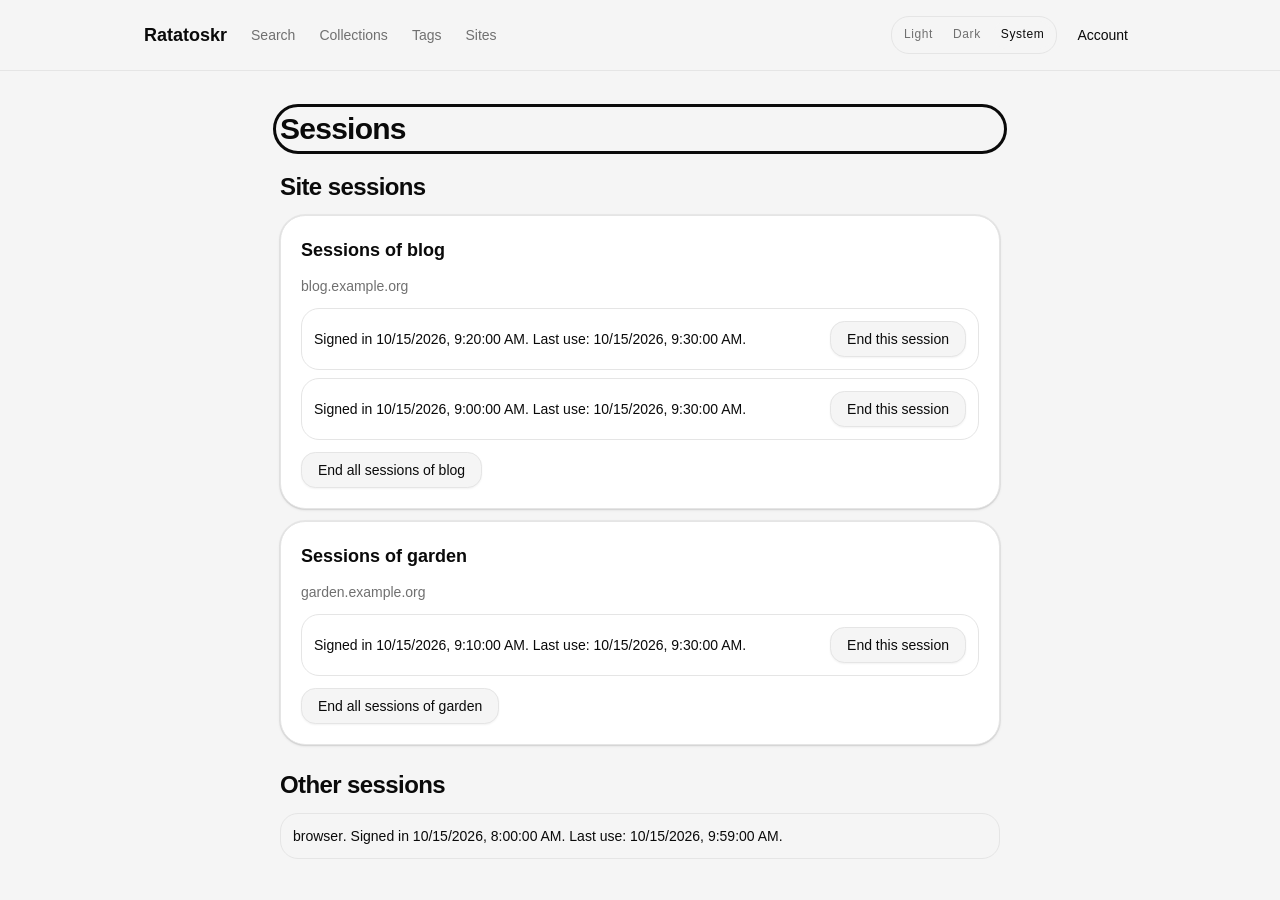
Test case: the session list after a revocation › buttons_wait_while_a_revoke_runs
Click the button "End all sessions of blog" at (392, 470), box [301, 452, 482, 488]
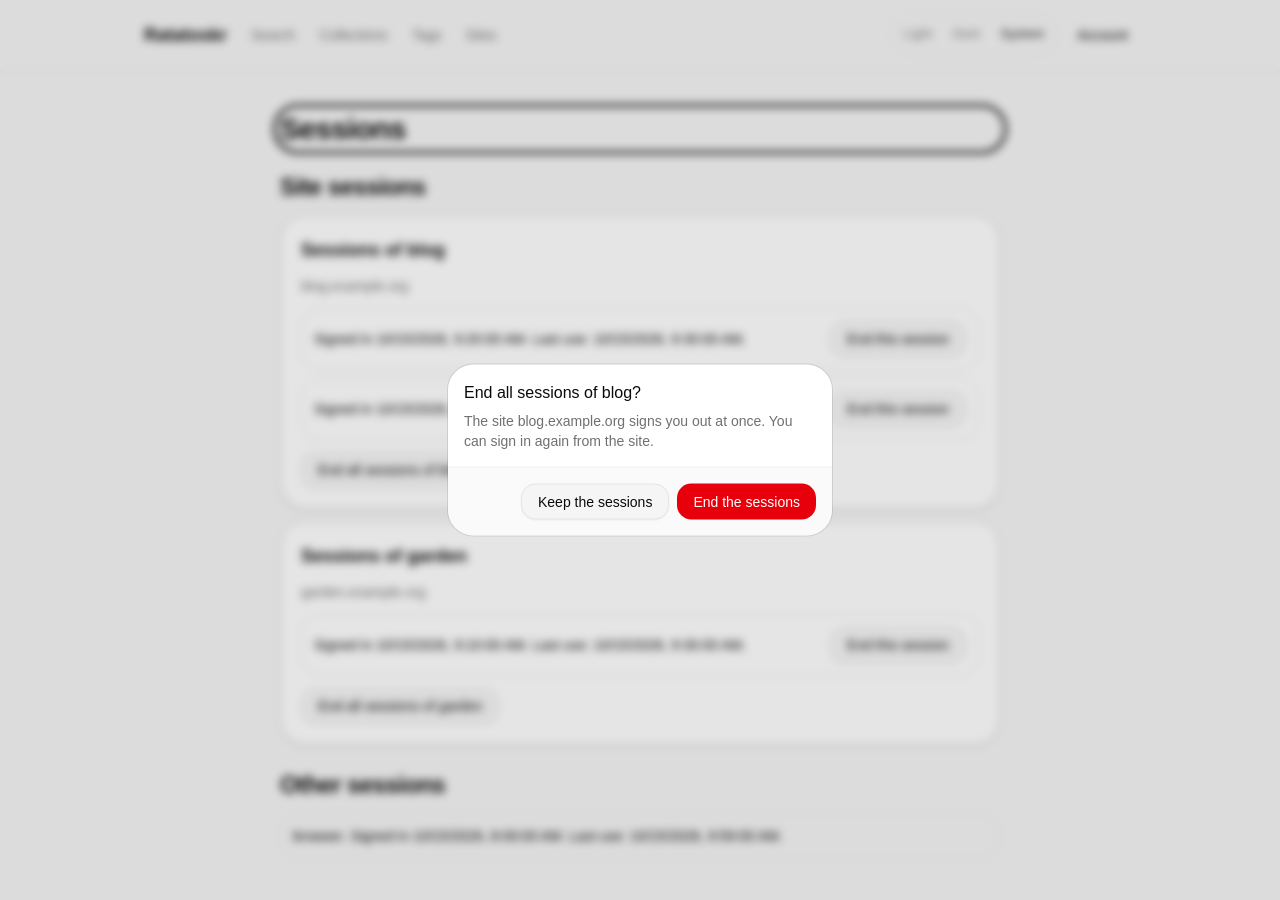
Click the button "End the sessions" at (747, 502), box [677, 484, 816, 520]
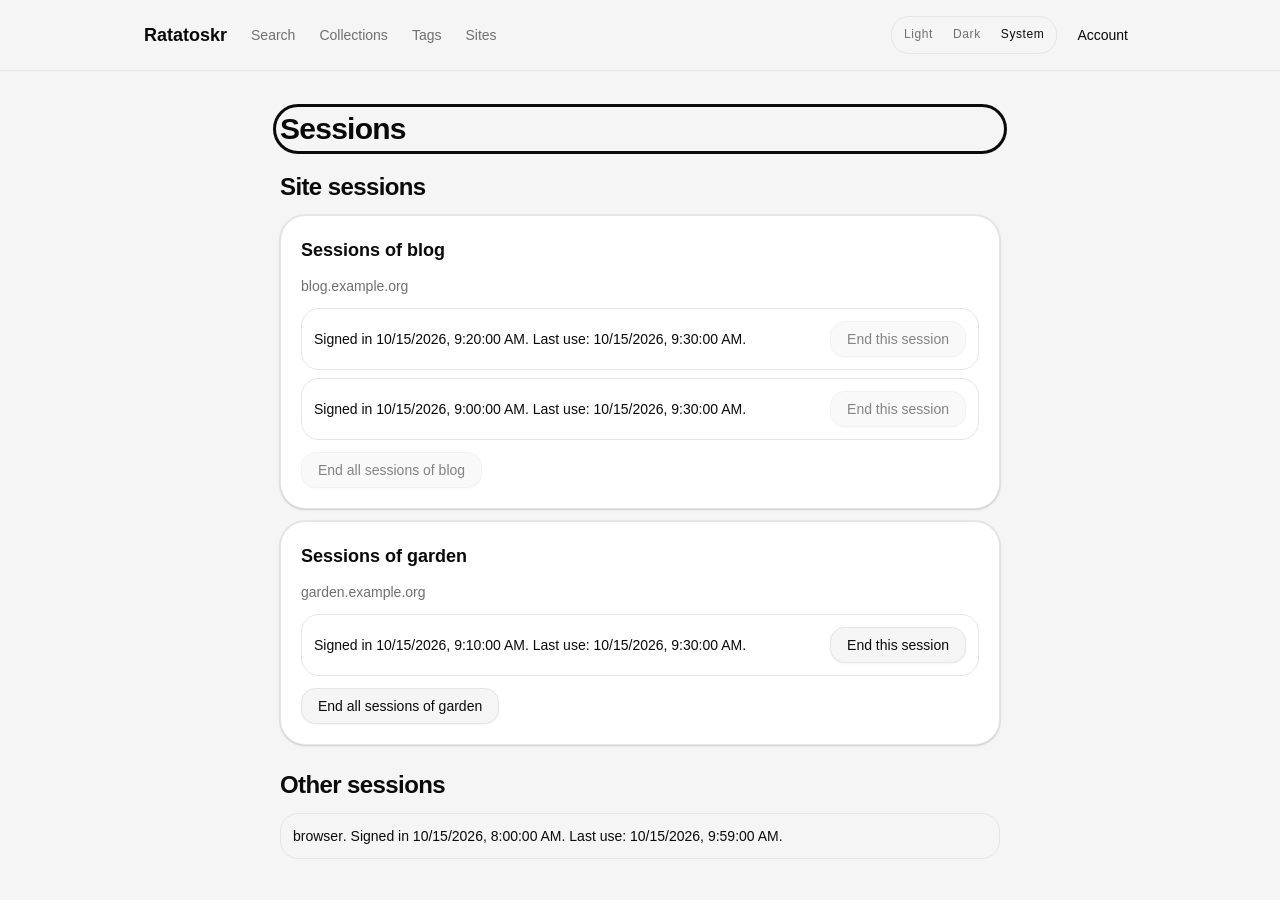
Check: the button "End all sessions of blog" is disabled, box [301, 452, 482, 488]
Check: the button "End this session" in the row of "10/15/2026, 9:20:00 AM" is disabled, box [830, 321, 966, 357]
Check: the button "End this session" in the row of "10/15/2026, 9:00:00 AM" is disabled, box [830, 391, 966, 427]
